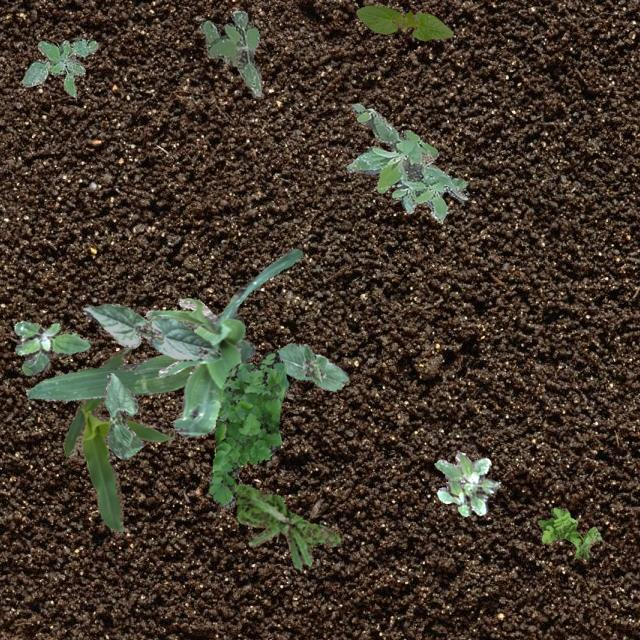crop: (144, 248, 300, 437), (61, 346, 175, 534), (24, 336, 254, 401), (82, 302, 220, 361), (102, 372, 144, 458), (276, 342, 348, 389), (356, 5, 452, 40)
weed: (346, 102, 466, 222), (208, 349, 288, 508), (234, 482, 340, 570), (198, 10, 262, 96), (21, 36, 98, 96), (434, 450, 499, 516), (14, 322, 90, 374), (536, 506, 600, 558)
